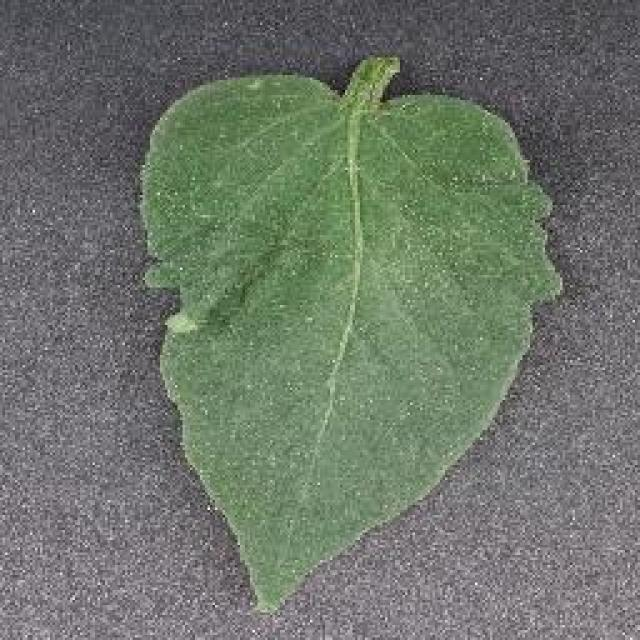Tomato___healthy: (136, 55, 570, 619)
